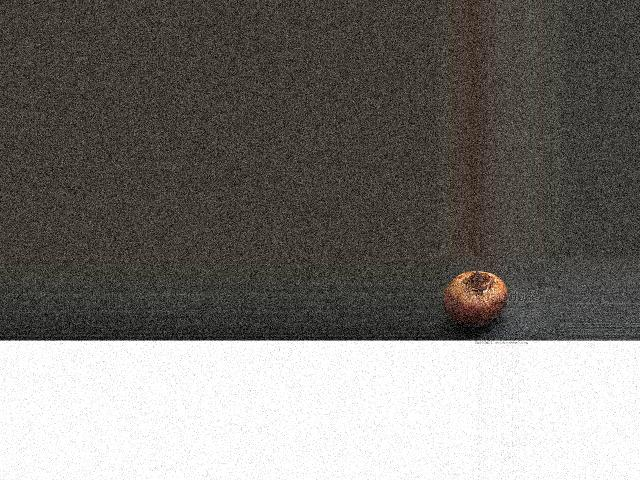beet: (441, 271, 506, 327)
